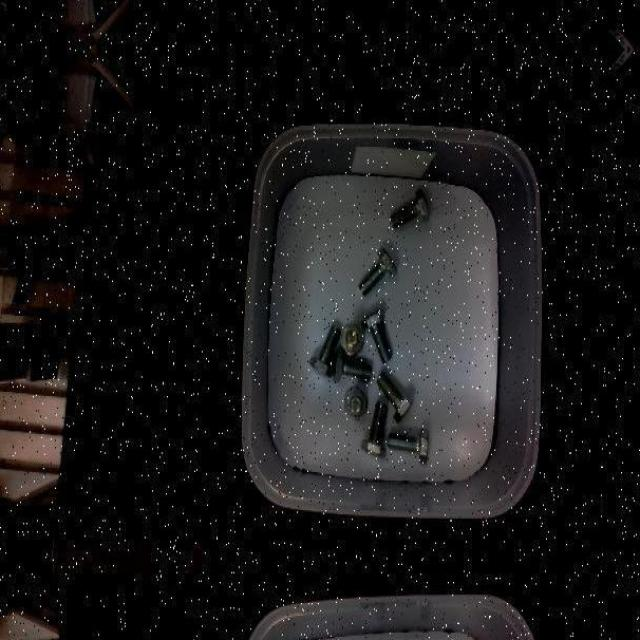screw: (357, 246, 397, 295), (376, 372, 415, 420), (362, 308, 393, 364), (359, 399, 388, 457), (388, 188, 428, 228), (310, 323, 340, 376), (386, 427, 430, 463), (332, 346, 372, 382), (341, 322, 363, 358), (346, 385, 368, 421)
